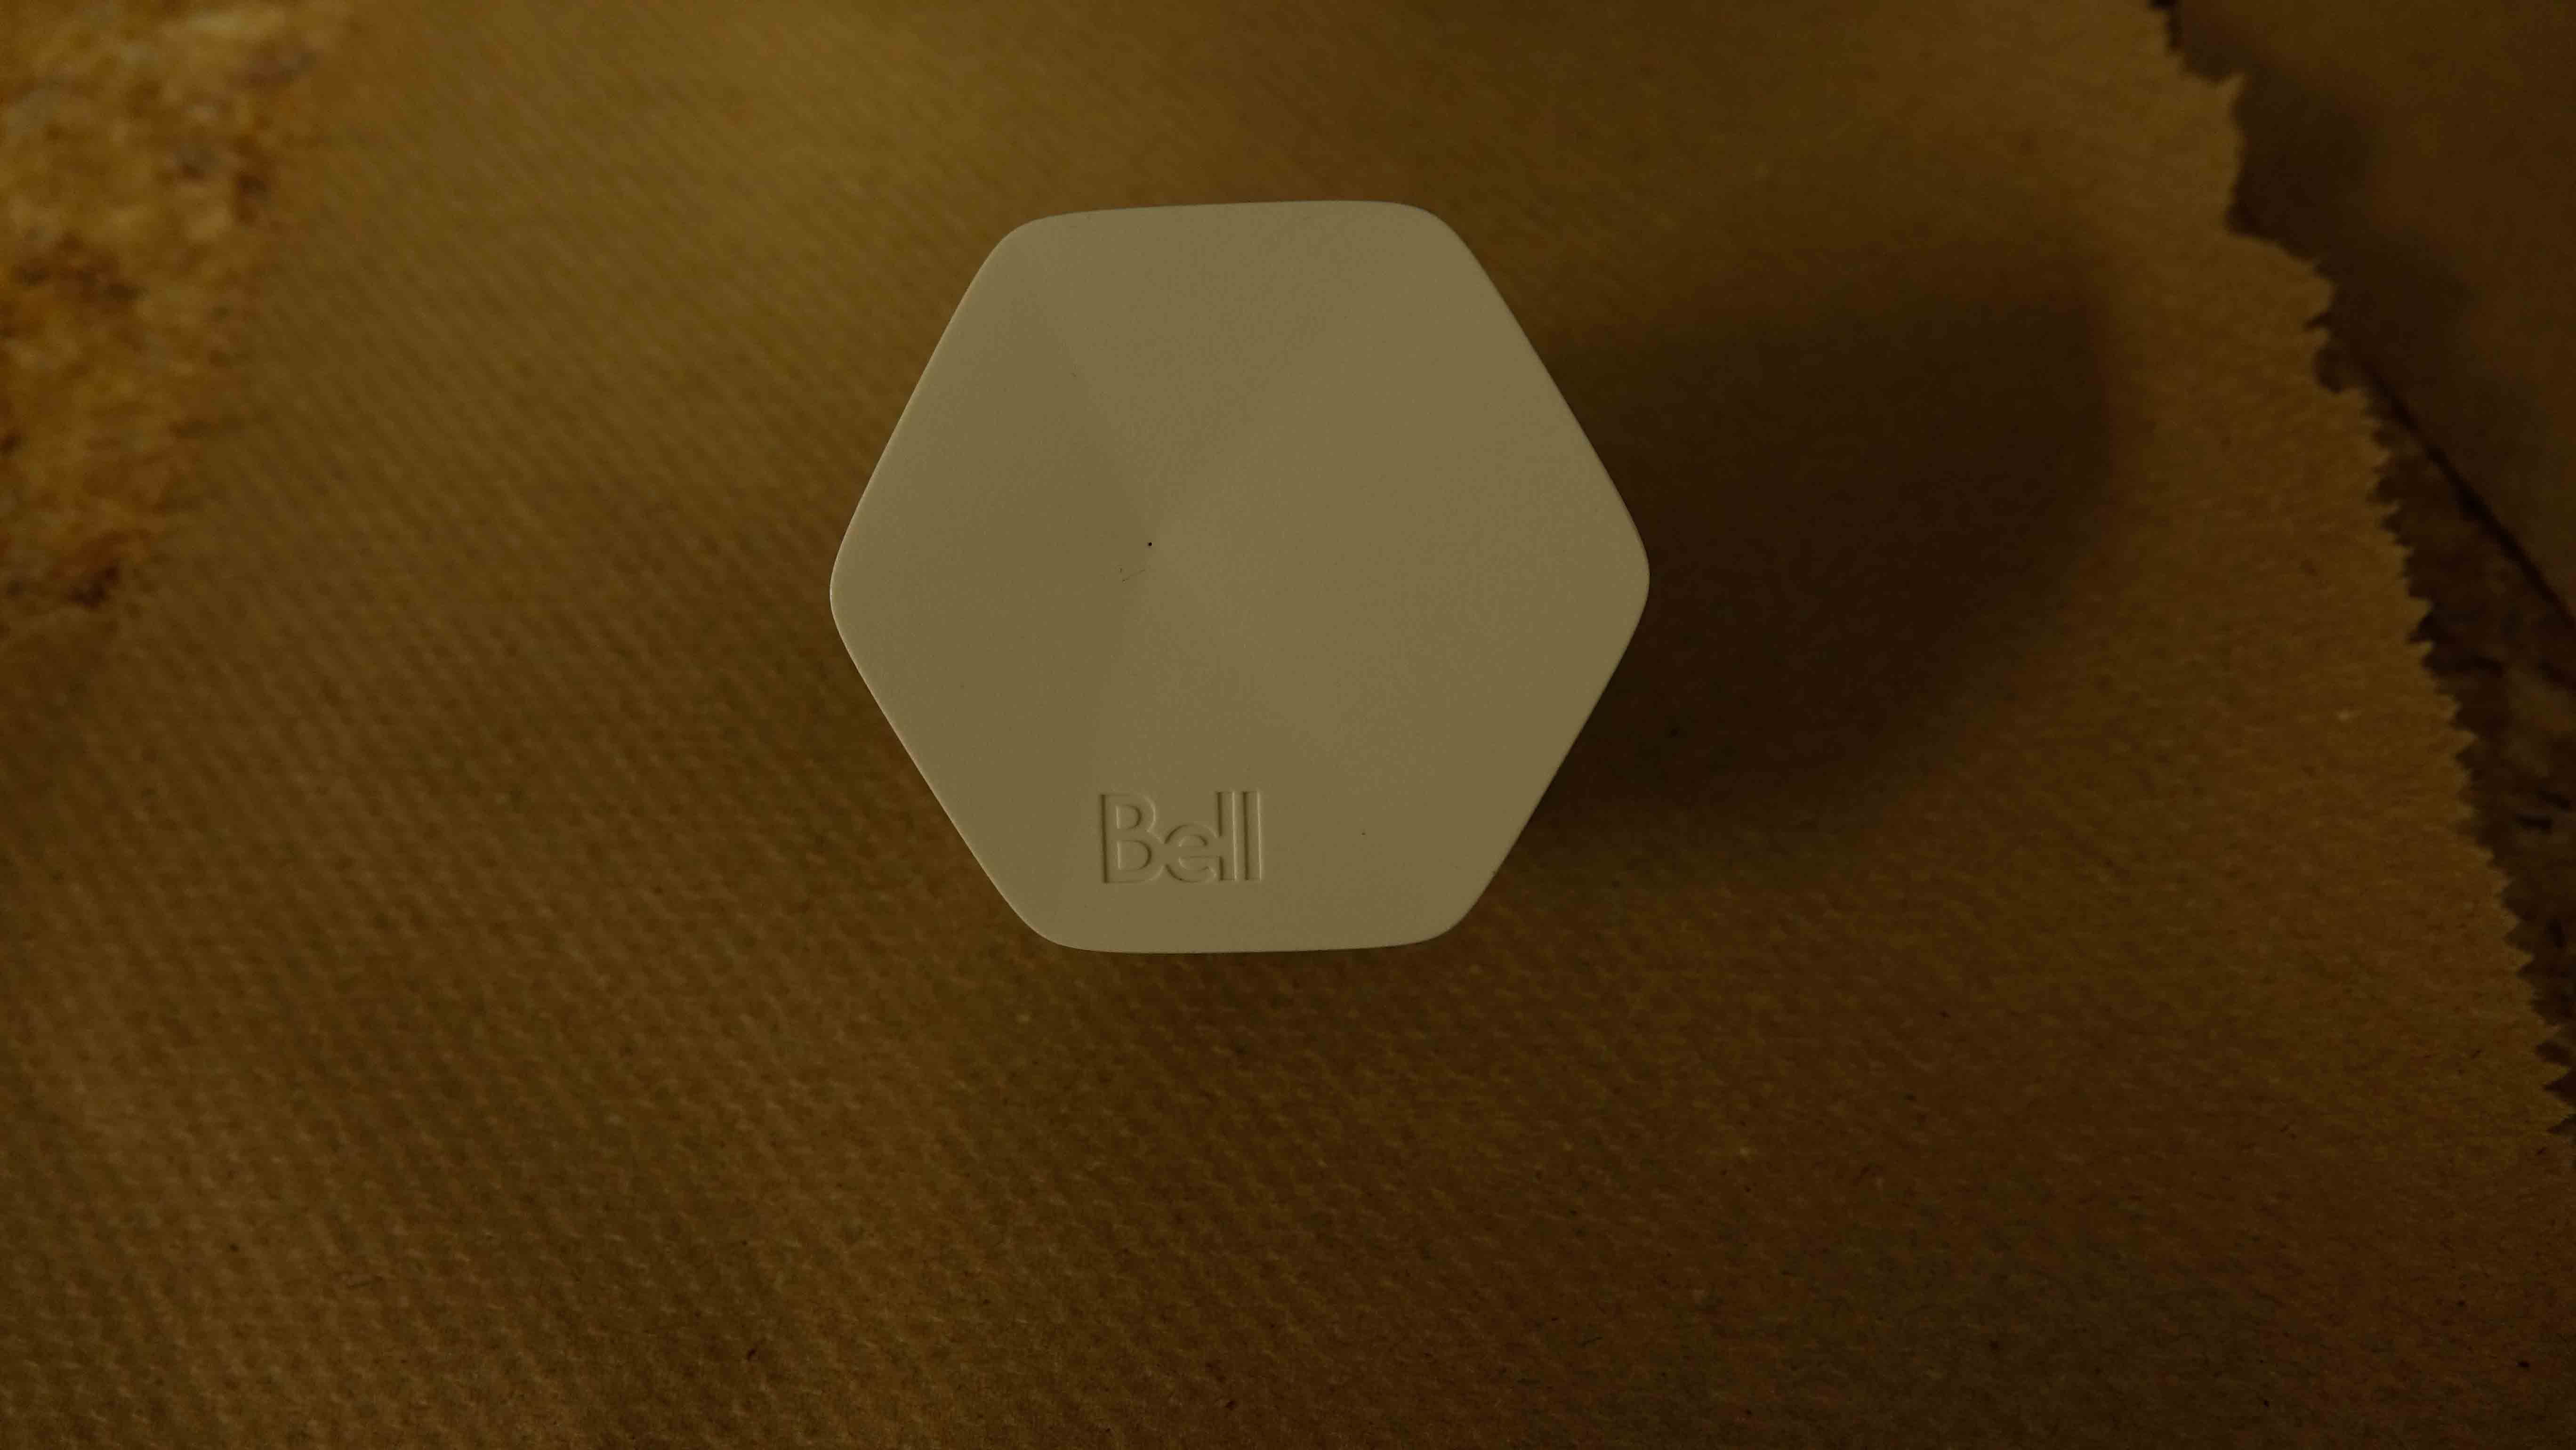pod: (821, 182, 1677, 976)
